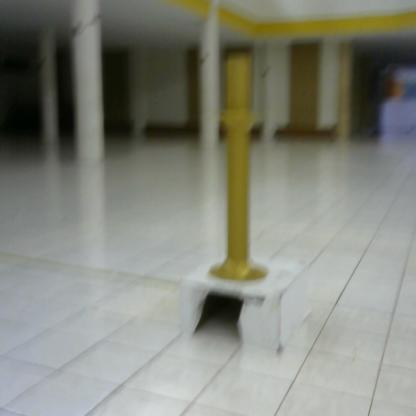pole: (201, 53, 276, 288)
